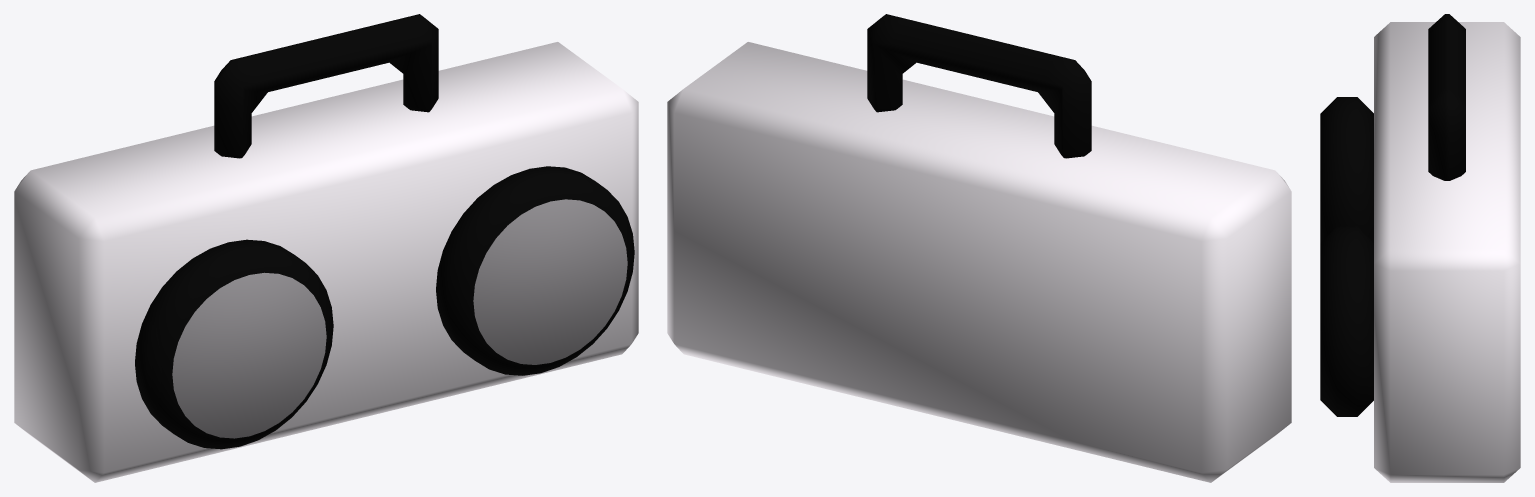
File: boombox.fbx
3 views of the same model, side by side, from view 1: azimuth 30°, elevation 25°; view 2: azimuth 150°, elevation 25°; view 3: azimuth 270°, elevation 25° (orthographic). The views are drawn at different scales.
Parts seen in each view (by area): view 1: Boombox; view 2: Boombox; view 3: Boombox.
Boxes of the visible parts, x1,y1,x2,y2 form: Boombox: (14,14,638,482); Boombox: (667,14,1291,482); Boombox: (1320,14,1520,482).
Bounding box in the file's own units: 441 × 269 × 155.
